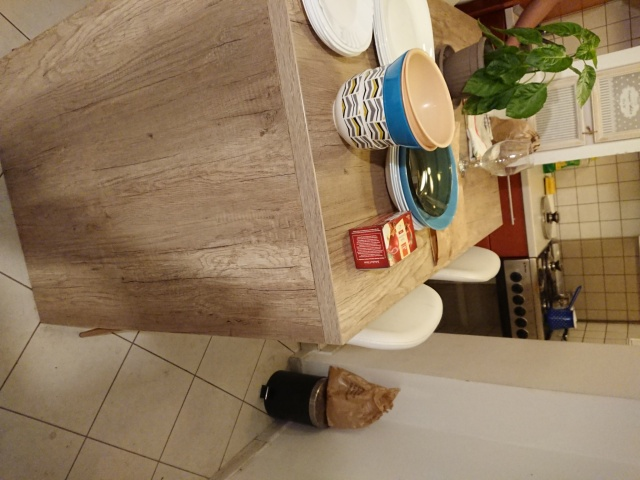Franck Apple Cinnamon Tea 60g: (344, 207, 421, 272)
